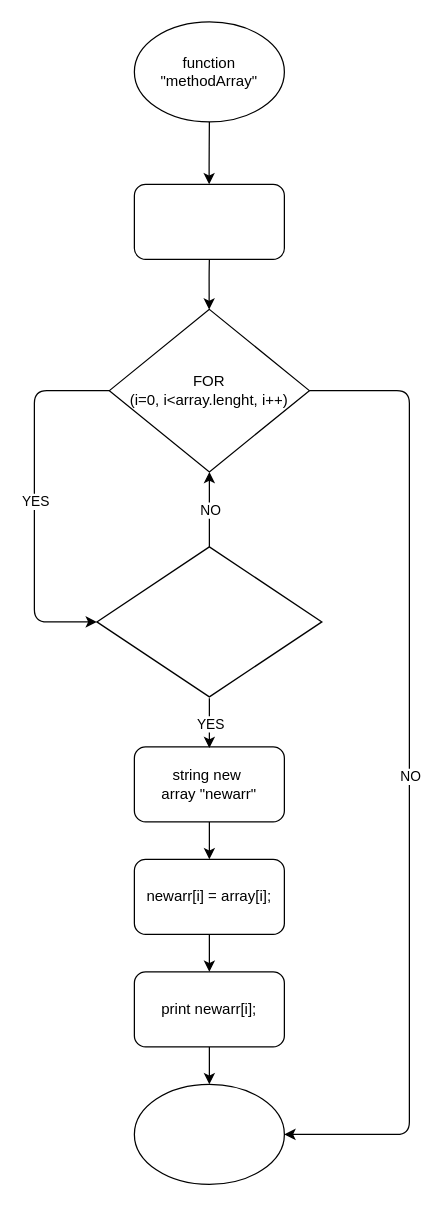
Some shapes in this 443 by 1206 pixel diagram are drawn without their labels. The centre of each missing label's shape, as x and y in pixels:
END function: point 208,1133
if (array [i].lenght<=3): point 209,621
string array[];: point 208,221
